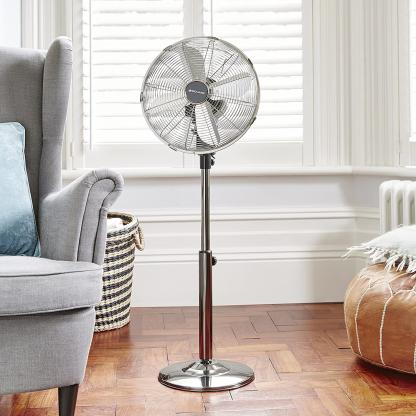fan: (138, 26, 269, 401)
